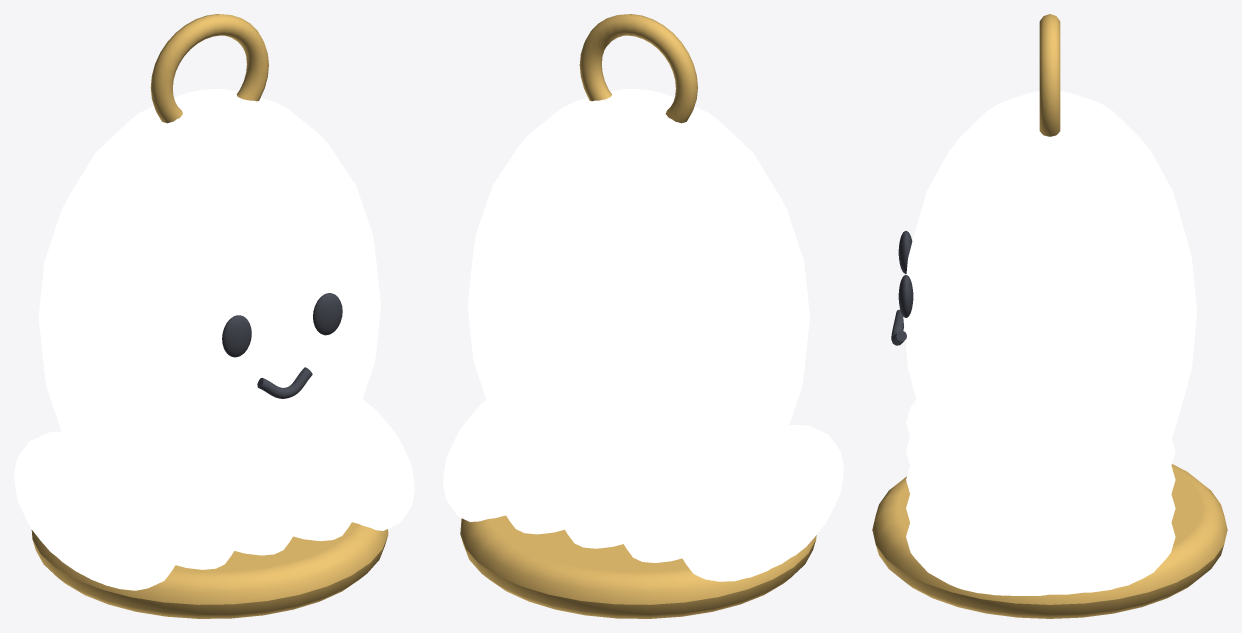
File: halloweenGhostLantern.glb
3 renders of one model, left to right at view 1: azimuth 30°, elevation 25°; view 2: azimuth 150°, elevation 25°; view 3: azimuth 270°, elevation 25°, orthographic.
Visible parts, largest first — view 1: Ghost body, Scalloped ghost hem, Lantern foot, Scalloped ghost hem.004, Lantern handle, Scalloped ghost hem.001, Scalloped ghost hem.003, Scalloped ghost hem.002, Friendly ghost eye, Friendly ghost eye.001, Ghost smile; view 2: Ghost body, Lantern foot, Scalloped ghost hem, Scalloped ghost hem.004, Lantern handle, Scalloped ghost hem.001, Scalloped ghost hem.003, Scalloped ghost hem.002; view 3: Ghost body, Scalloped ghost hem.004, Lantern foot, Lantern handle, Scalloped ghost hem.003, Scalloped ghost hem.002, Scalloped ghost hem.001, Friendly ghost eye.001.
Boxes of the visible parts, x1=… form: Ghost body: x1=38, y1=89, x2=380, y2=501; Scalloped ghost hem: x1=14, y1=431, x2=179, y2=590; Lantern foot: x1=31, y1=522, x2=388, y2=618; Scalloped ghost hem.004: x1=337, y1=399, x2=414, y2=530; Lantern handle: x1=150, y1=14, x2=268, y2=123; Scalloped ghost hem.001: x1=160, y1=487, x2=238, y2=569; Scalloped ghost hem.003: x1=291, y1=450, x2=355, y2=541; Scalloped ghost hem.002: x1=232, y1=481, x2=297, y2=555; Friendly ghost eye: x1=222, y1=315, x2=251, y2=357; Friendly ghost eye.001: x1=313, y1=293, x2=342, y2=335; Ghost smile: x1=257, y1=367, x2=312, y2=398; Ghost body: x1=467, y1=89, x2=809, y2=510; Lantern foot: x1=460, y1=515, x2=816, y2=618; Scalloped ghost hem: x1=678, y1=424, x2=843, y2=581; Scalloped ghost hem.004: x1=443, y1=400, x2=513, y2=521; Lantern handle: x1=579, y1=14, x2=697, y2=123; Scalloped ghost hem.001: x1=619, y1=493, x2=690, y2=562; Scalloped ghost hem.003: x1=502, y1=453, x2=564, y2=534; Scalloped ghost hem.002: x1=560, y1=489, x2=623, y2=548; Ghost body: x1=903, y1=91, x2=1196, y2=487; Scalloped ghost hem.004: x1=906, y1=478, x2=1175, y2=595; Lantern foot: x1=872, y1=464, x2=1227, y2=618; Lantern handle: x1=1039, y1=14, x2=1060, y2=136; Scalloped ghost hem.003: x1=906, y1=463, x2=1175, y2=522; Scalloped ghost hem.002: x1=906, y1=442, x2=1175, y2=493; Scalloped ghost hem.001: x1=906, y1=421, x2=1175, y2=465; Friendly ghost eye.001: x1=898, y1=275, x2=913, y2=317.
Size of the model in its own units: 0.62 by 0.958 by 0.58.
